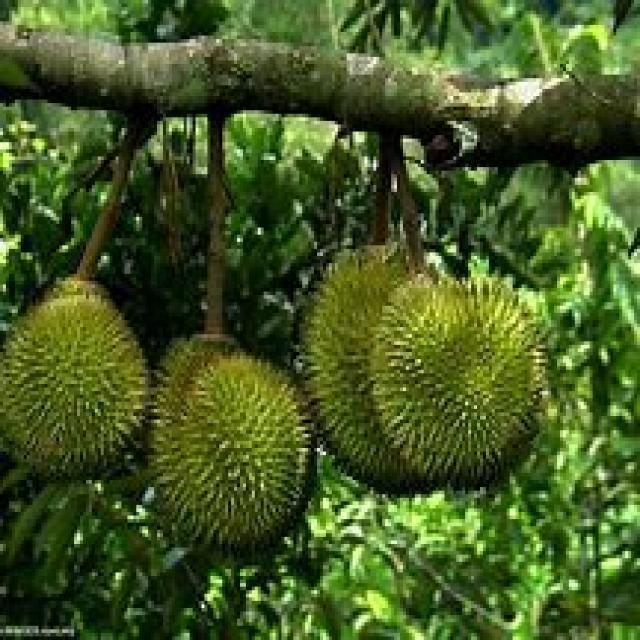UNRIPE: (148, 332, 316, 553), (368, 272, 542, 476), (2, 274, 148, 476)
